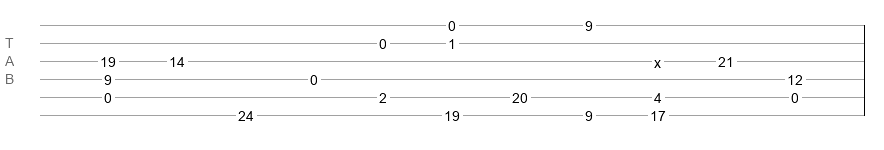0: (104, 90, 112, 100), (310, 72, 318, 82), (379, 36, 387, 46), (448, 18, 456, 28), (791, 90, 799, 100)
1: (448, 36, 456, 46)
12: (787, 72, 803, 82)
14: (169, 54, 185, 64)
17: (650, 108, 666, 118)
19: (100, 54, 116, 64), (444, 108, 460, 118)
2: (379, 90, 387, 100)
20: (512, 90, 528, 100)
21: (718, 54, 734, 64)
24: (238, 108, 254, 118)
4: (654, 90, 662, 100)
9: (104, 72, 112, 82), (585, 108, 593, 118), (585, 18, 593, 28)
x: (654, 55, 661, 63)
